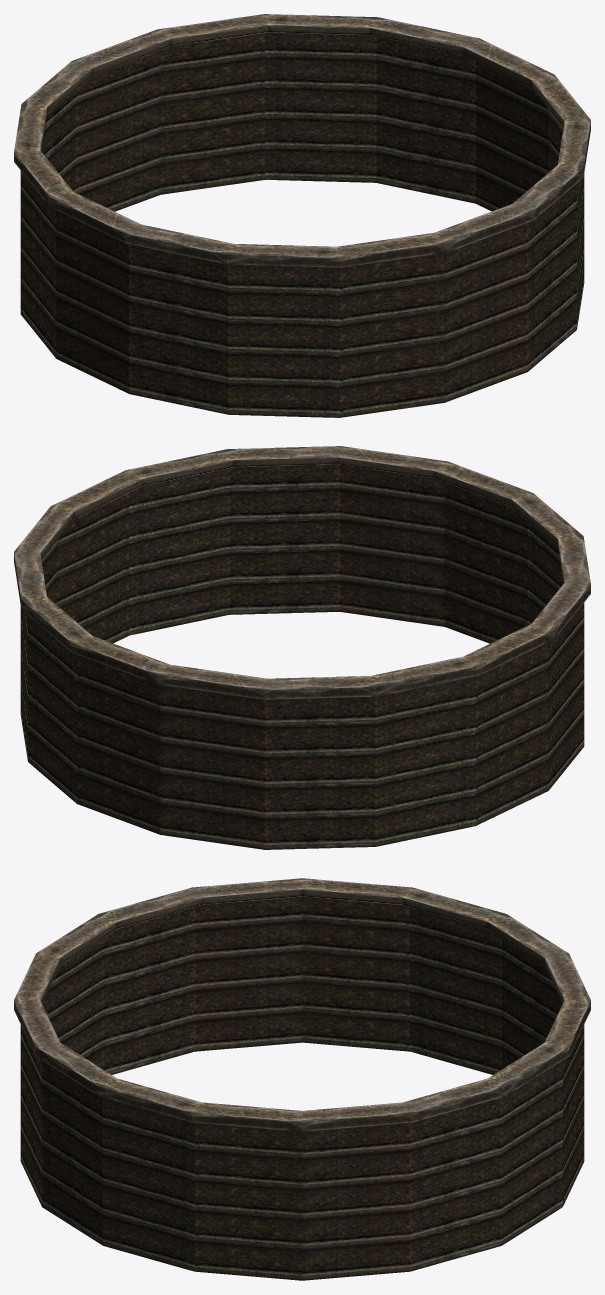
The model's file is miniboss_01_coll.fbx.
The picture shows the model from 3 angles, top to bottom: view 1: azimuth 30°, elevation 25°; view 2: azimuth 150°, elevation 25°; view 3: azimuth 270°, elevation 25°; orthographic projection.
Visible parts, largest first — view 1: miniboss_01; view 2: miniboss_01; view 3: miniboss_01.
Boxes of the visible parts, box(x1,y1,x2,y2) form: miniboss_01: box(14, 14, 590, 417); miniboss_01: box(14, 446, 590, 849); miniboss_01: box(14, 878, 590, 1280).
Size of the model in its own units: 36.57 by 11.3 by 36.57.
